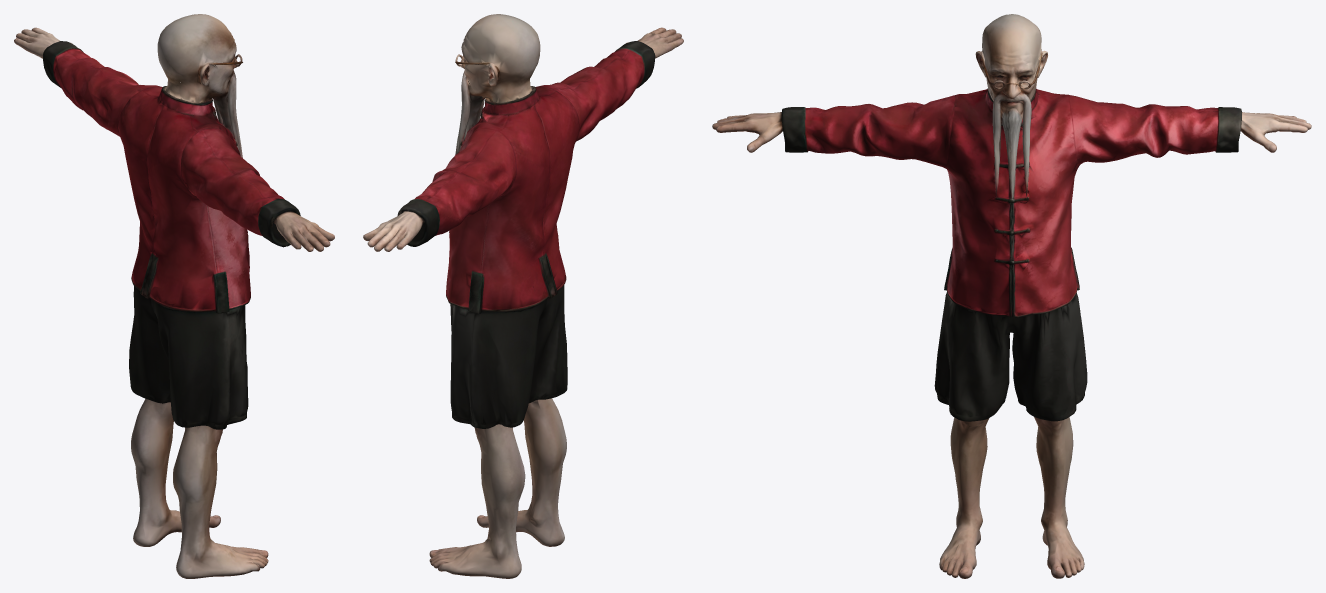
Rendered from the-kungfu.glb.
3 views of the same model, side by side, from view 1: azimuth 30°, elevation 25°; view 2: azimuth 150°, elevation 25°; view 3: azimuth 270°, elevation 25° (orthographic).
Parts seen in each view (by area): view 1: 16-kungfu; view 2: 16-kungfu; view 3: 16-kungfu.
Part boxes in pixels (bbox=[...]): 16-kungfu: bbox=[14, 14, 334, 578]; 16-kungfu: bbox=[363, 14, 683, 578]; 16-kungfu: bbox=[712, 14, 1311, 578].
Size of the model in its own units: 0.1922 by 0.9766 by 0.9831.
1 material, 1 textured.
